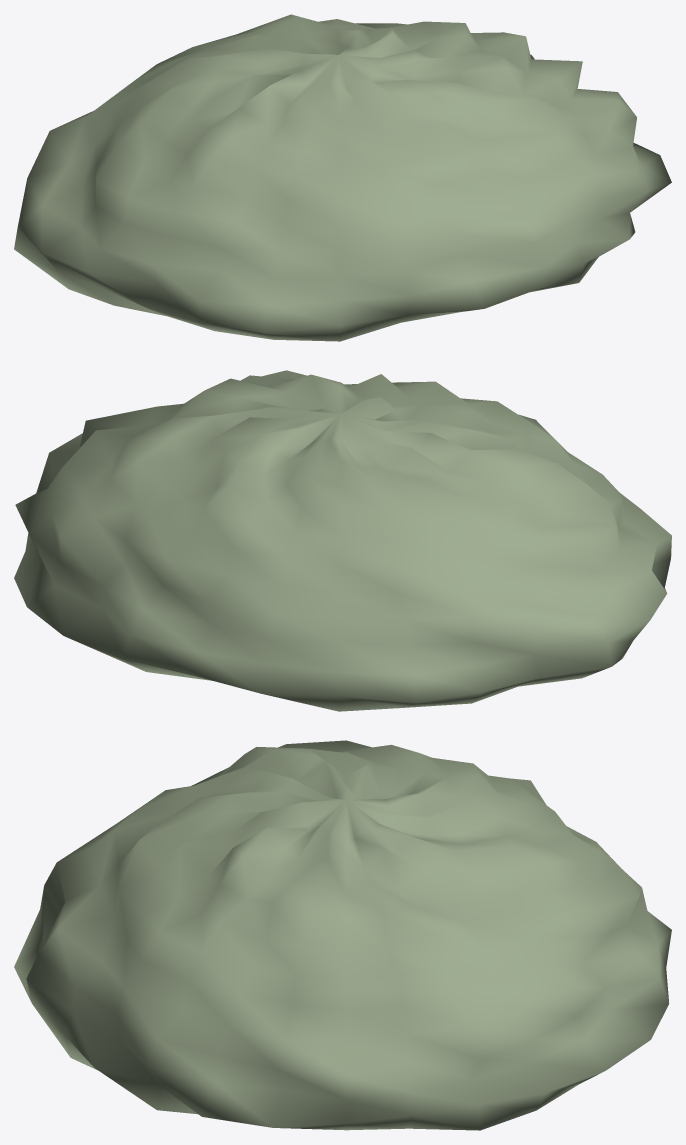
Rendered from alpine-and-arctic-biomes-cushion-plant-f5b55a06__20947.glb.
3 renders of one model, top to bottom at view 1: azimuth 30°, elevation 25°; view 2: azimuth 150°, elevation 25°; view 3: azimuth 270°, elevation 25°, orthographic. The views are drawn at different scales.
Parts seen in each view (by area): view 1: cushion-plant; view 2: cushion-plant; view 3: cushion-plant.
Boxes of the visible parts, box(x1,y1,x2,y2) form: cushion-plant: box(14, 14, 671, 341); cushion-plant: box(14, 370, 671, 711); cushion-plant: box(14, 740, 671, 1130).
Bounding box in the file's own units: 0.6599 × 0.1812 × 0.5639.
